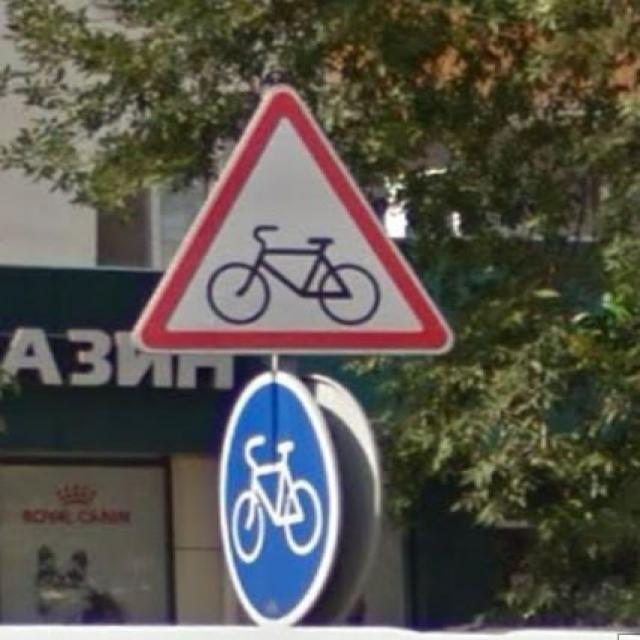traffic_sign: (125, 86, 458, 352), (218, 368, 342, 628)
